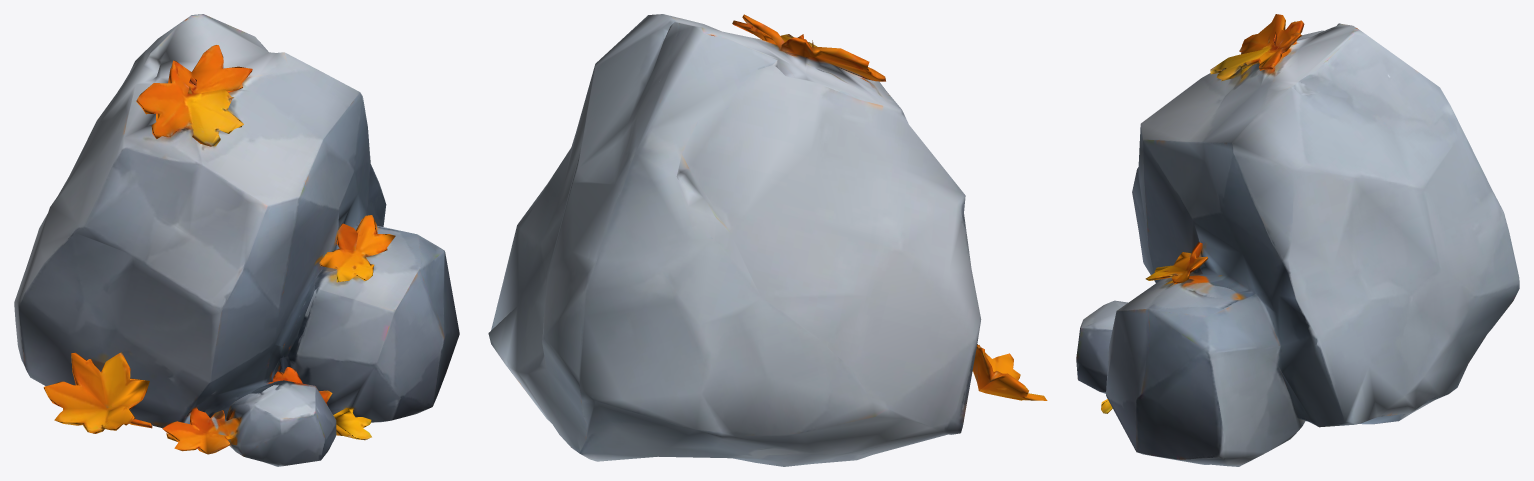
File: rock_autumn.glb
The picture shows the model from 3 angles, left to right: view 1: azimuth 30°, elevation 25°; view 2: azimuth 150°, elevation 25°; view 3: azimuth 270°, elevation 25°; orthographic projection. The views are drawn at different scales.
Visible parts, largest first — view 1: BakeLow; view 2: BakeLow; view 3: BakeLow.
Part boxes in pixels (left/top/right/bottom): BakeLow: left=14, top=14, right=459, bottom=466; BakeLow: left=488, top=14, right=1047, bottom=466; BakeLow: left=1076, top=14, right=1519, bottom=466.
Bounding box in the file's own units: 0.8922 × 0.7376 × 0.8138.
1 material, 1 textured.
